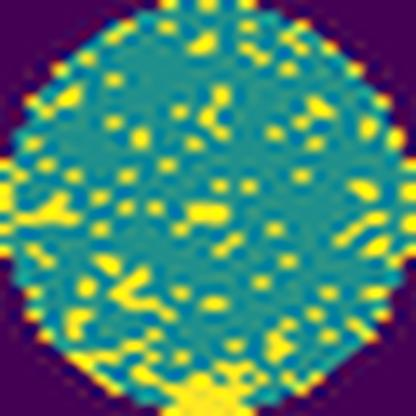Edge-Loc: (126, 357, 270, 416)
